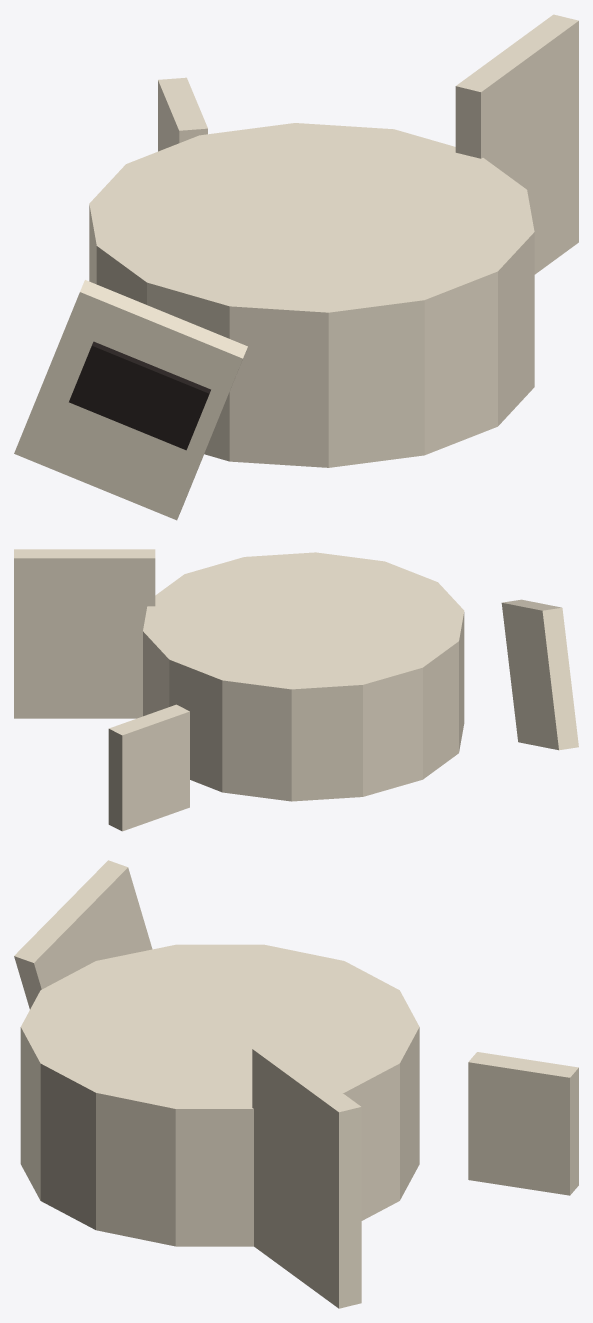
File: mug_broken.glb
The picture shows the model from 3 angles, top to bottom: view 1: azimuth 30°, elevation 25°; view 2: azimuth 150°, elevation 25°; view 3: azimuth 270°, elevation 25°; orthographic projection. The views are drawn at different scales.
Visible parts, largest first — view 1: mug_broken; view 2: mug_broken; view 3: mug_broken.
Boxes of the visible parts, left/top/right/bottom form: mug_broken: left=14, top=14, right=578, bottom=520; mug_broken: left=14, top=549, right=578, bottom=831; mug_broken: left=14, top=860, right=578, bottom=1308.
Size of the model in its own units: 0.1589 by 0.055 by 0.1303.
